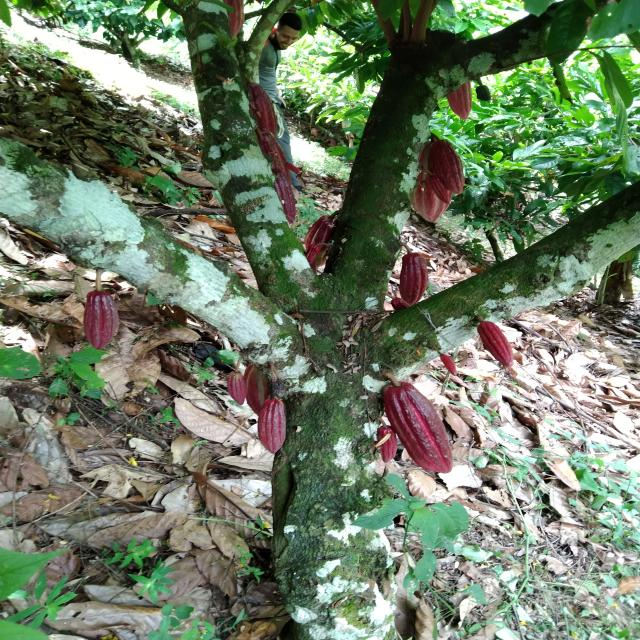Sana: (382, 383, 454, 474), (416, 138, 464, 195), (87, 290, 121, 353), (243, 82, 280, 136), (396, 248, 429, 307), (246, 362, 276, 422), (477, 321, 513, 371), (268, 167, 300, 220), (411, 178, 448, 223), (254, 400, 285, 452), (256, 134, 291, 180), (222, 358, 252, 404), (446, 82, 476, 119), (309, 216, 333, 255), (378, 428, 400, 467), (425, 175, 455, 202), (433, 357, 454, 378), (305, 244, 320, 264)
